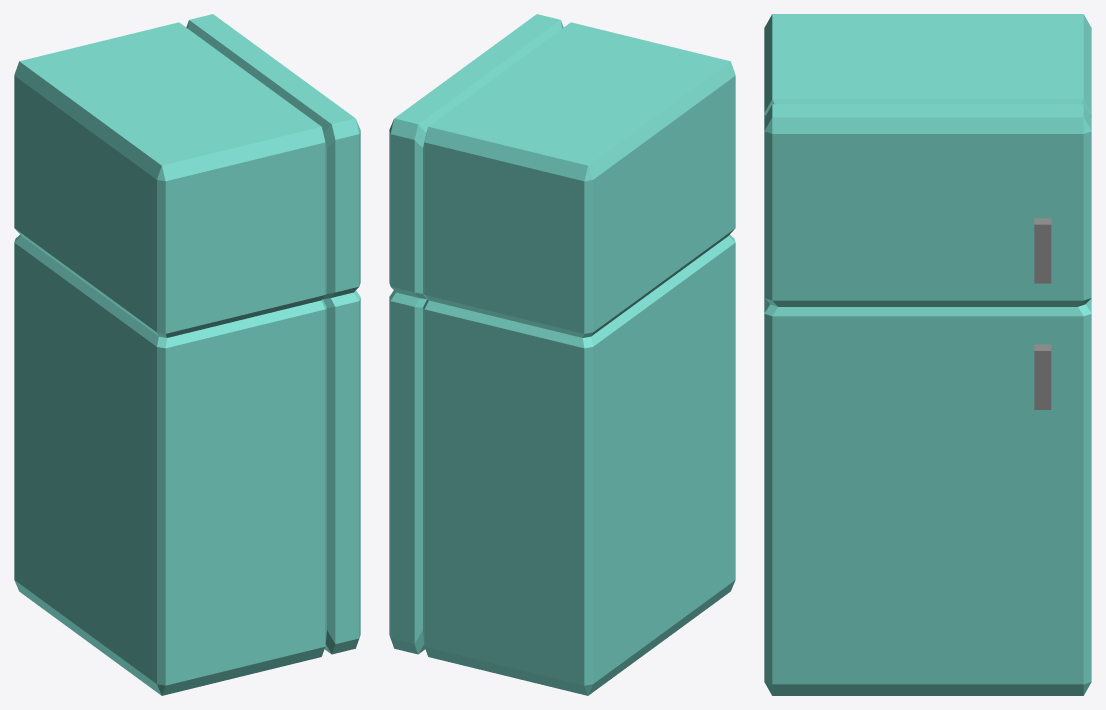
File: fridge.glb
3 views of the same model, side by side, from view 1: azimuth 30°, elevation 25°; view 2: azimuth 150°, elevation 25°; view 3: azimuth 270°, elevation 25° (orthographic). The views are drawn at different scales.
Visible parts, largest first — view 1: Body; view 2: Body; view 3: Body, FridgeHandle, FreezerHandle.
Boxes of the visible parts, x1,y1,x2,y2 form: Body: [14, 14, 360, 695]; Body: [389, 14, 735, 695]; Body: [764, 14, 1091, 695]; FridgeHandle: [1034, 344, 1051, 409]; FreezerHandle: [1034, 218, 1051, 283].
Size of the model in its own units: 1.66 by 3.9 by 2.
